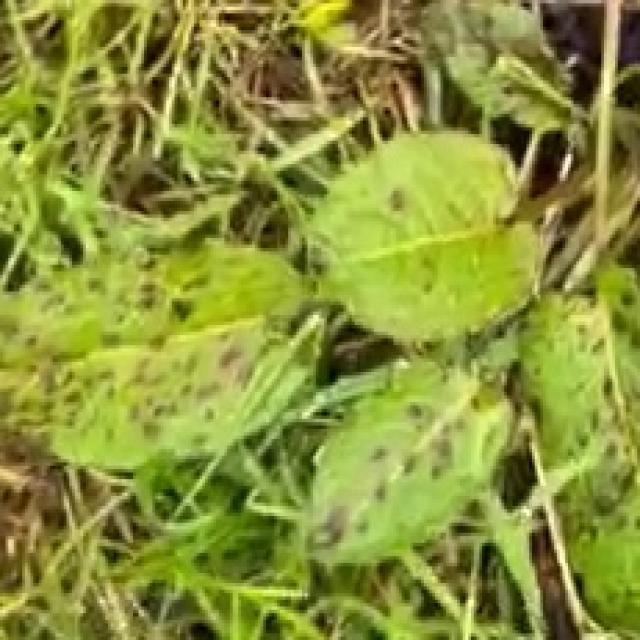organic waste: (0, 137, 640, 615)
